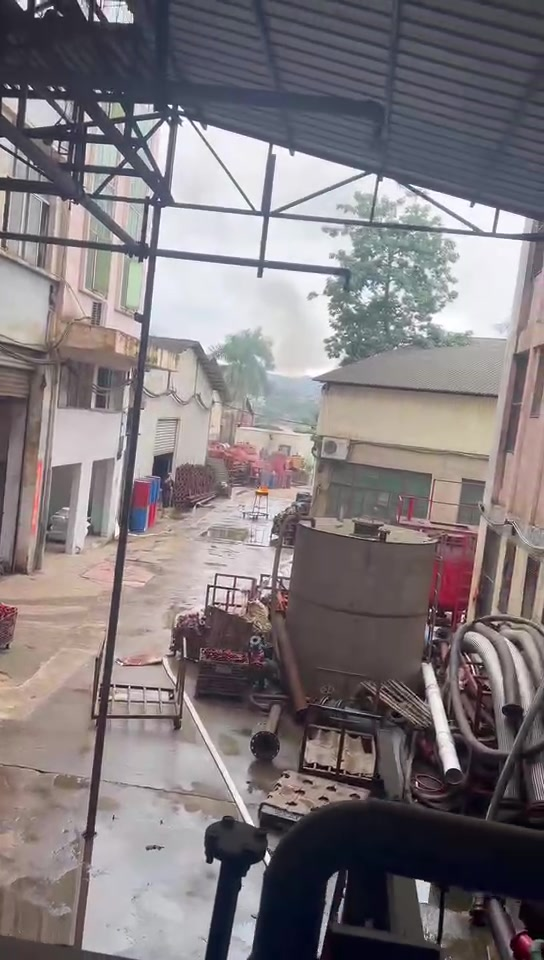fire: (256, 484, 268, 492)
